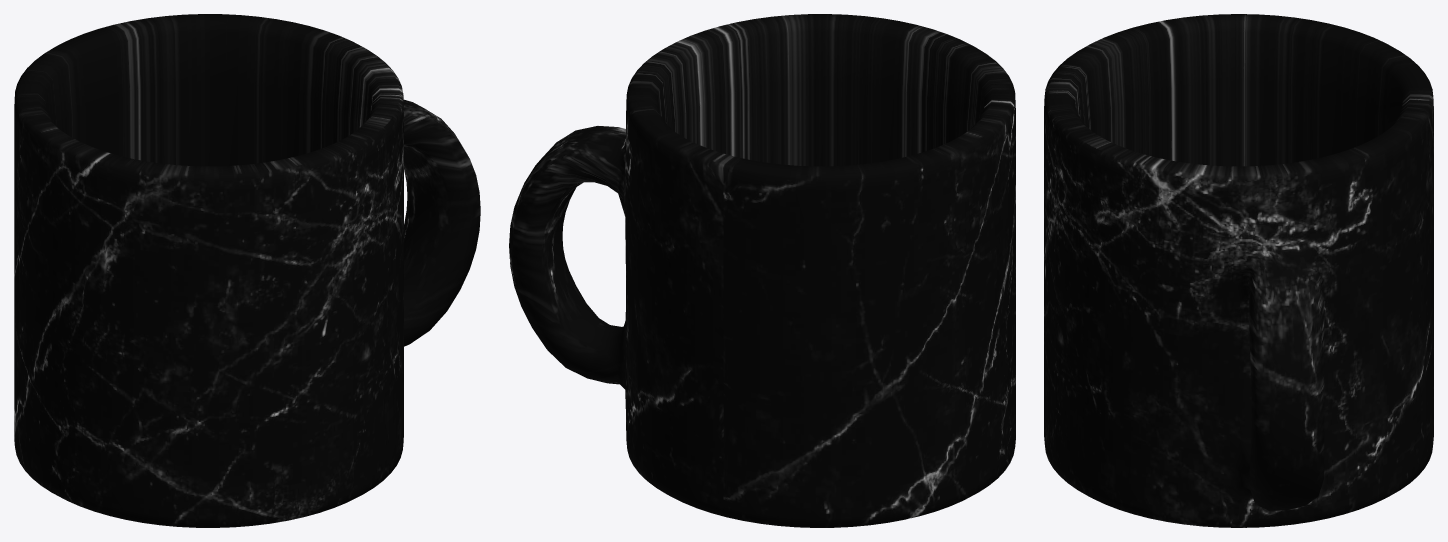
File: Mug.fbx
3 views of the same model, side by side, from view 1: azimuth 30°, elevation 25°; view 2: azimuth 150°, elevation 25°; view 3: azimuth 270°, elevation 25° (orthographic).
Parts seen in each view (by area): view 1: Mug; view 2: Mug; view 3: Mug.
Boxes of the visible parts, x1,y1,x2,y2 form: Mug: (14,14,480,527); Mug: (509,14,1015,527); Mug: (1044,14,1433,527).
Size of the model in its own units: 43.46 by 32.6 by 32.39.
Materials: 1 (1 with a texture image).
